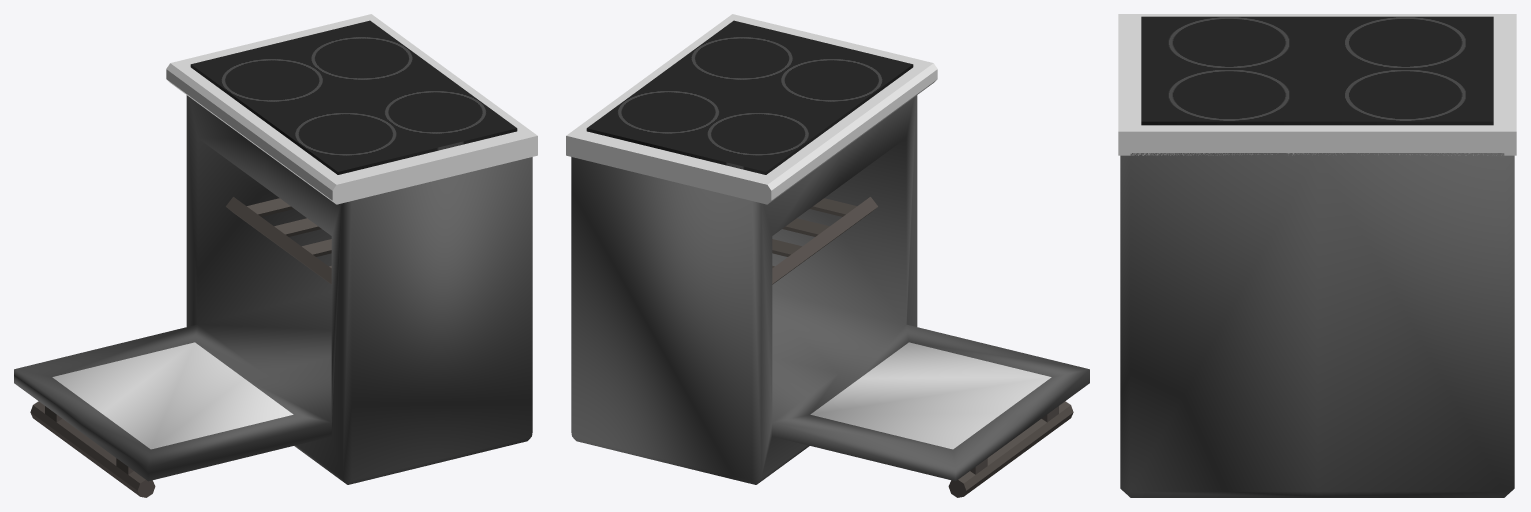
File: Oven.fbx
3 views of the same model, side by side, from view 1: azimuth 30°, elevation 25°; view 2: azimuth 150°, elevation 25°; view 3: azimuth 270°, elevation 25° (orthographic). The views are drawn at different scales.
Visible parts, largest first — view 1: Oven, OvenStove, OvenGlass, OvenCounter, OvenGrill, OvenHandle; view 2: Oven, OvenStove, OvenGlass, OvenCounter, OvenGrill, OvenHandle; view 3: Oven, OvenStove, OvenCounter.
Part boxes in pixels (x1,y1,x2,y2): Oven: (14,95,532,484); OvenStove: (190,20,517,174); OvenGlass: (52,342,293,449); OvenCounter: (166,14,537,204); OvenGrill: (226,197,331,284); OvenHandle: (30,401,155,497); Oven: (571,95,1089,484); OvenStove: (586,20,913,174); OvenGlass: (810,342,1051,449); OvenCounter: (566,14,937,204); OvenGrill: (772,197,877,284); OvenHandle: (948,401,1073,497); Oven: (1120,153,1514,497); OvenStove: (1141,16,1493,125); OvenCounter: (1118,14,1516,155).
Size of the model in its own units: 787 by 626 by 607.
